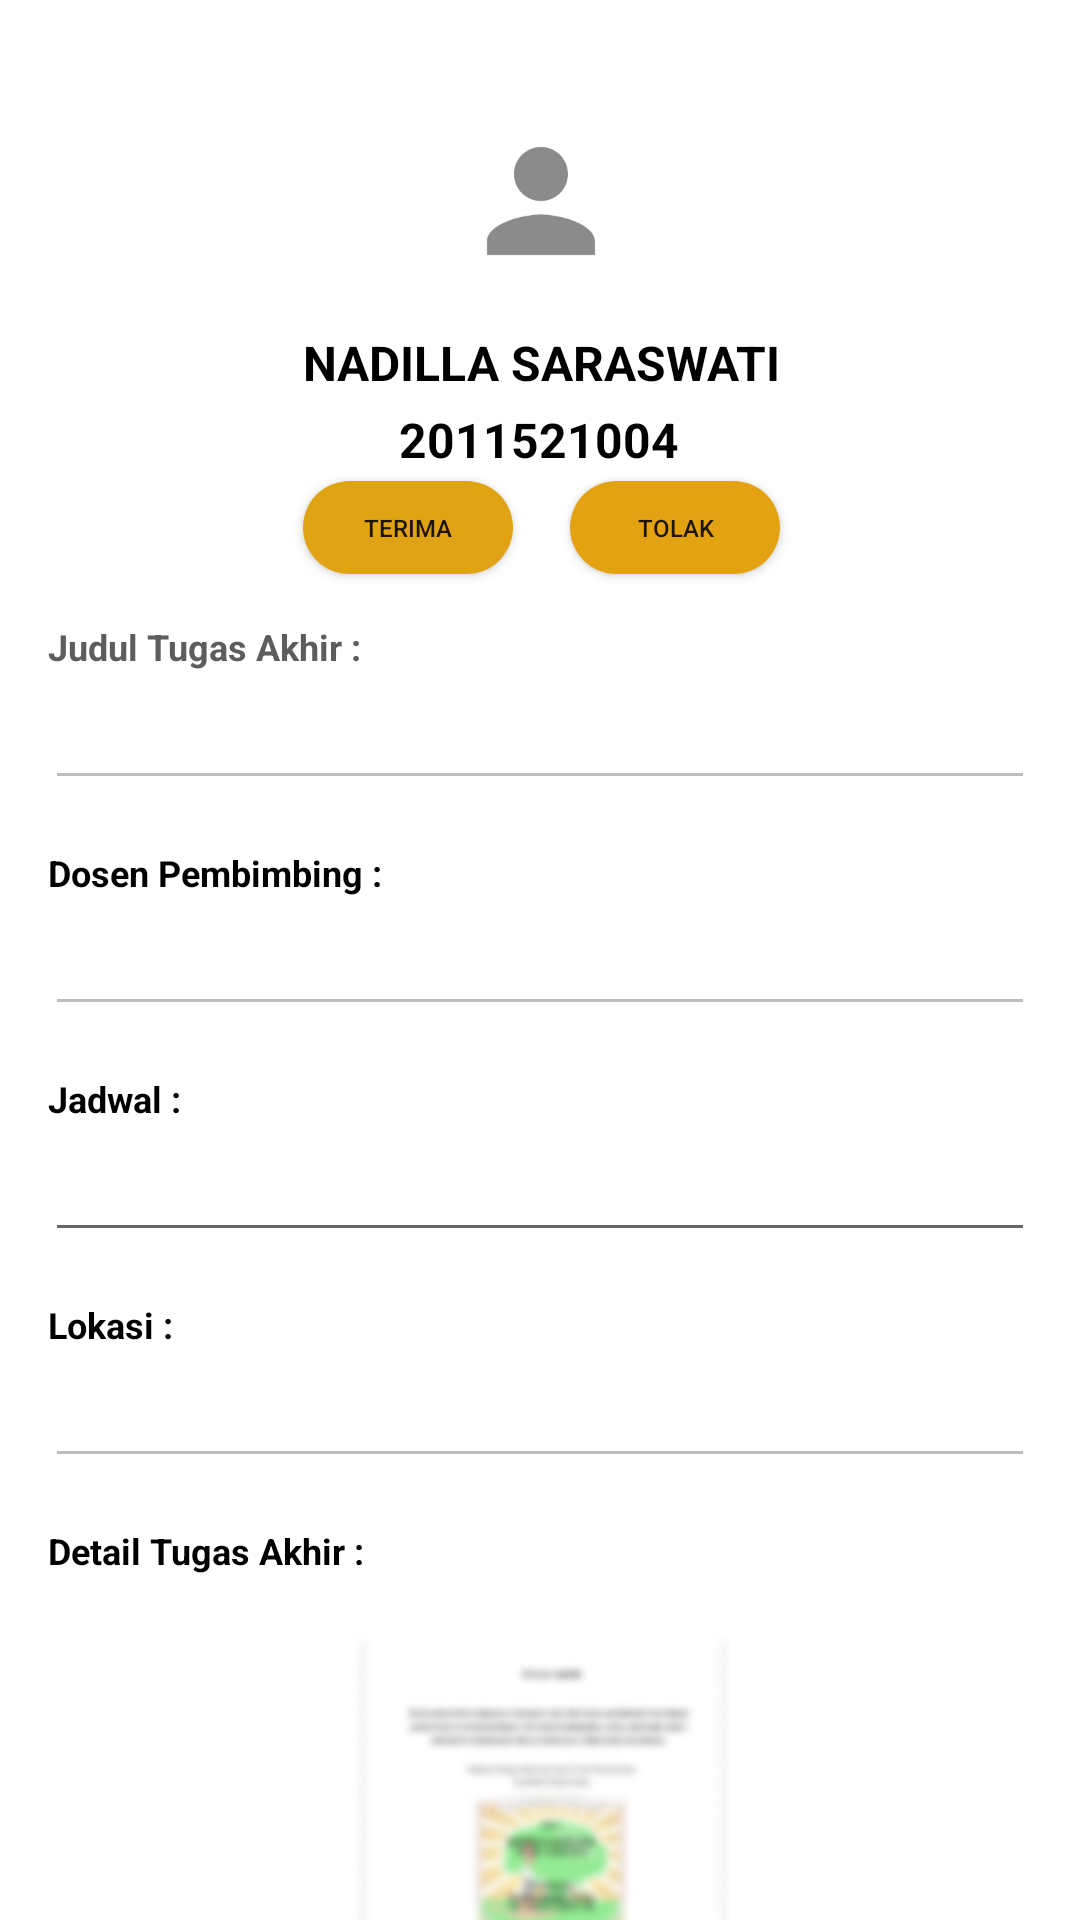

Where to tap for icons on this 1080x1920 app screen, as (x,y):
person: (541,201)
